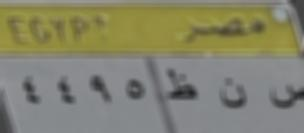4: (51, 71, 77, 106), (20, 70, 42, 108)
5: (123, 72, 149, 105)
9: (87, 70, 114, 110)
Thaa: (162, 64, 202, 106)
noon: (217, 76, 252, 110)
seen: (264, 75, 304, 110)
